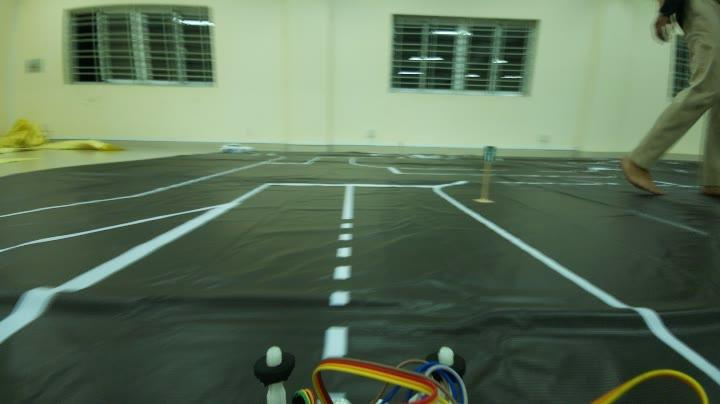highway_entry: (480, 140, 500, 166)
